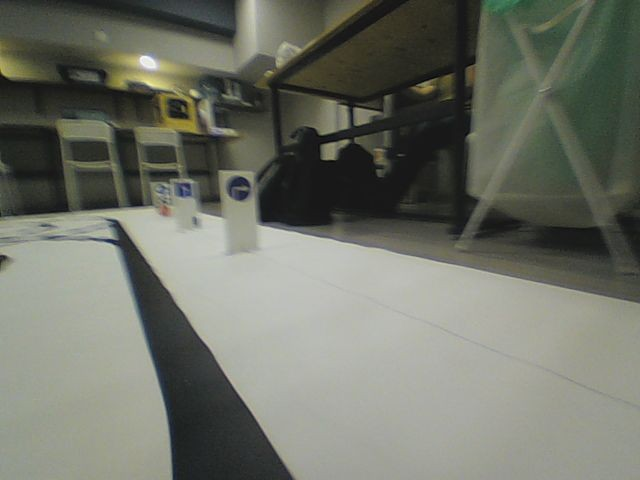Right: (225, 175, 251, 202)
